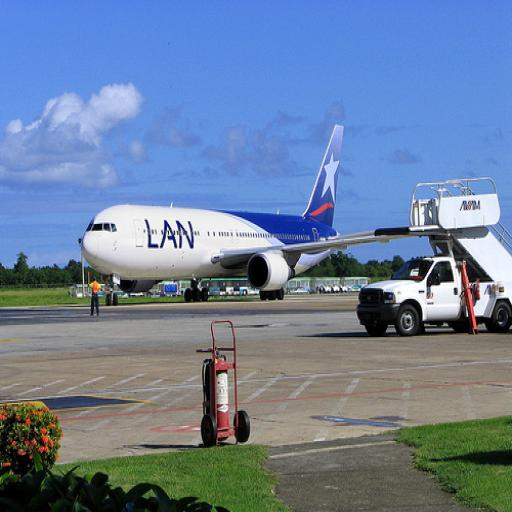aeroplane: (79, 123, 407, 300)
car: (354, 257, 511, 336)
person: (85, 274, 104, 314)
